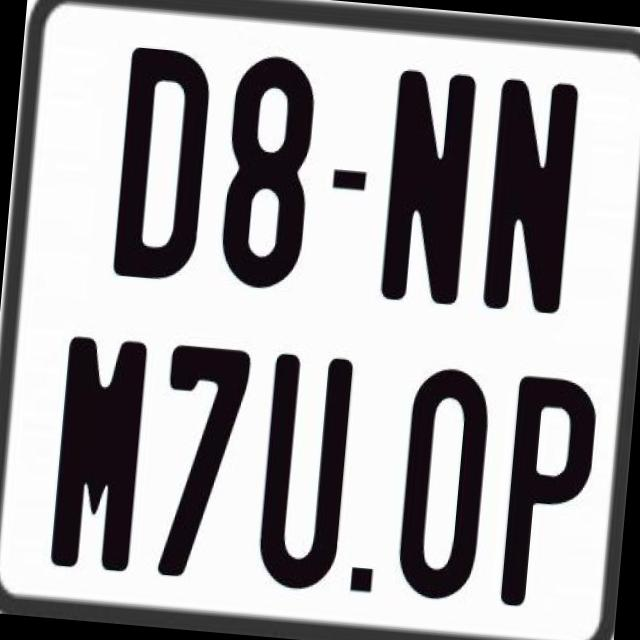0: (390, 362, 497, 608)
7: (148, 340, 256, 588)
8: (214, 51, 318, 290)
D: (111, 46, 218, 292)
M: (49, 333, 147, 571)
N: (376, 68, 481, 308), (482, 78, 586, 312)
P: (500, 371, 606, 607)
U: (254, 353, 358, 601)
